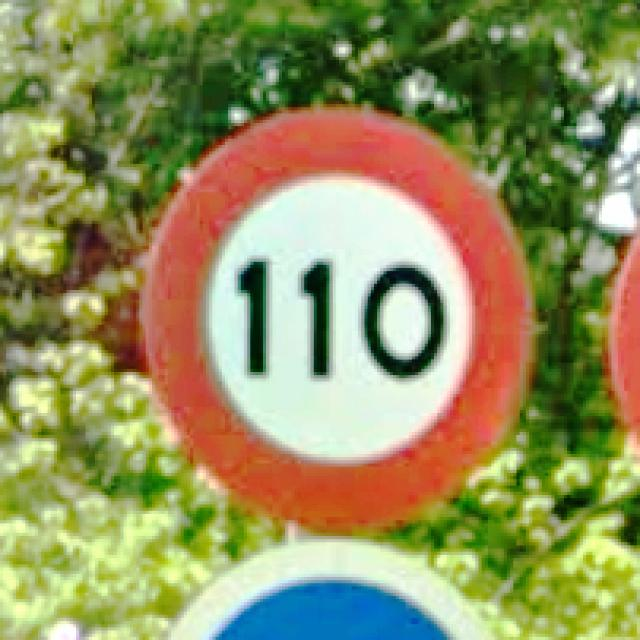max110: (133, 101, 536, 530)
